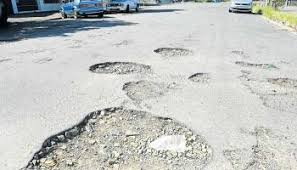pothole: (19, 94, 213, 170), (88, 57, 154, 84), (151, 43, 198, 65), (190, 69, 219, 92)
